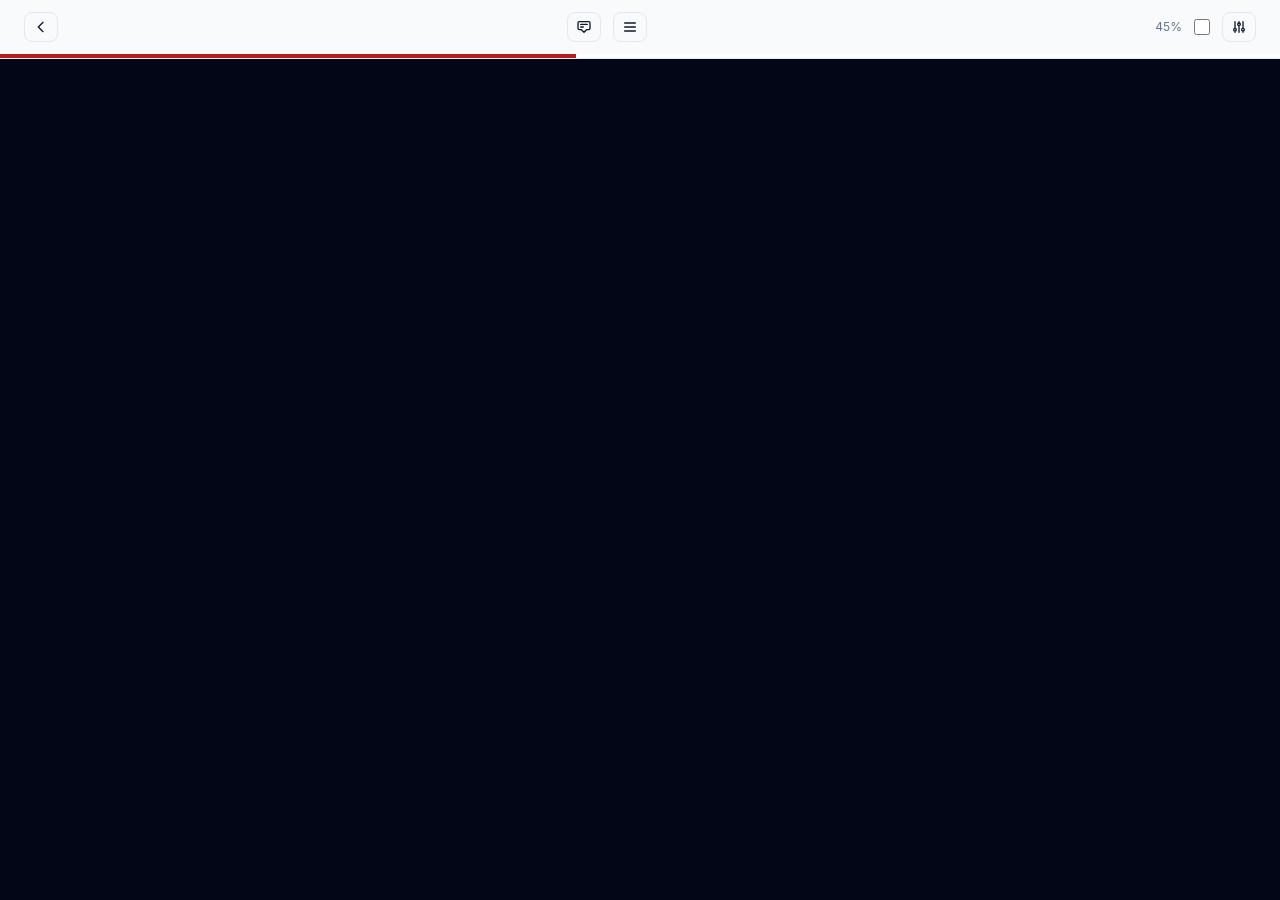
it: ReaderToolbar › closes menu when close button is clicked
Click the button named "Open section menu" at (630,27), box [613, 12, 647, 42]
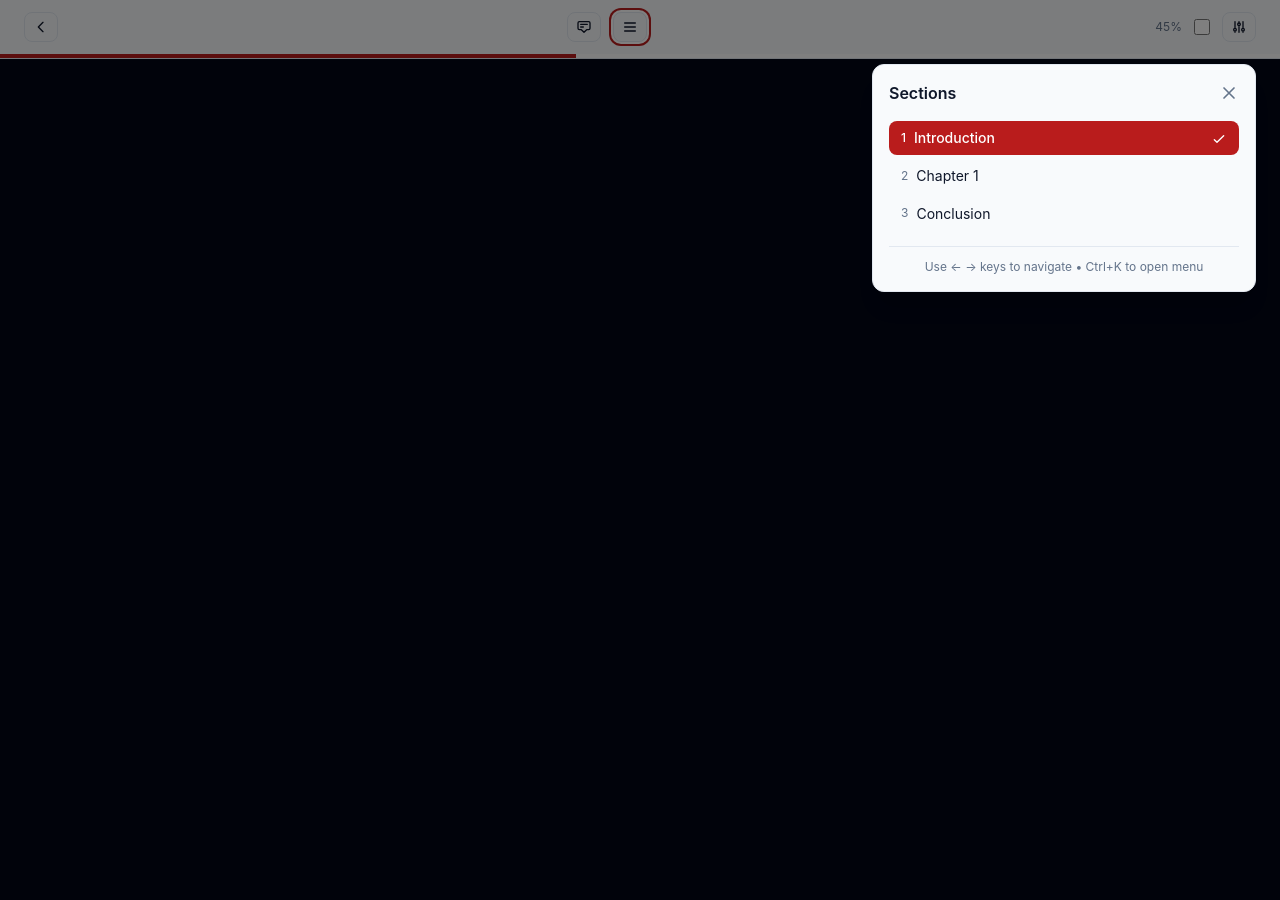
Click the button named "Close section menu" at (1229,93), box [1219, 83, 1239, 103]
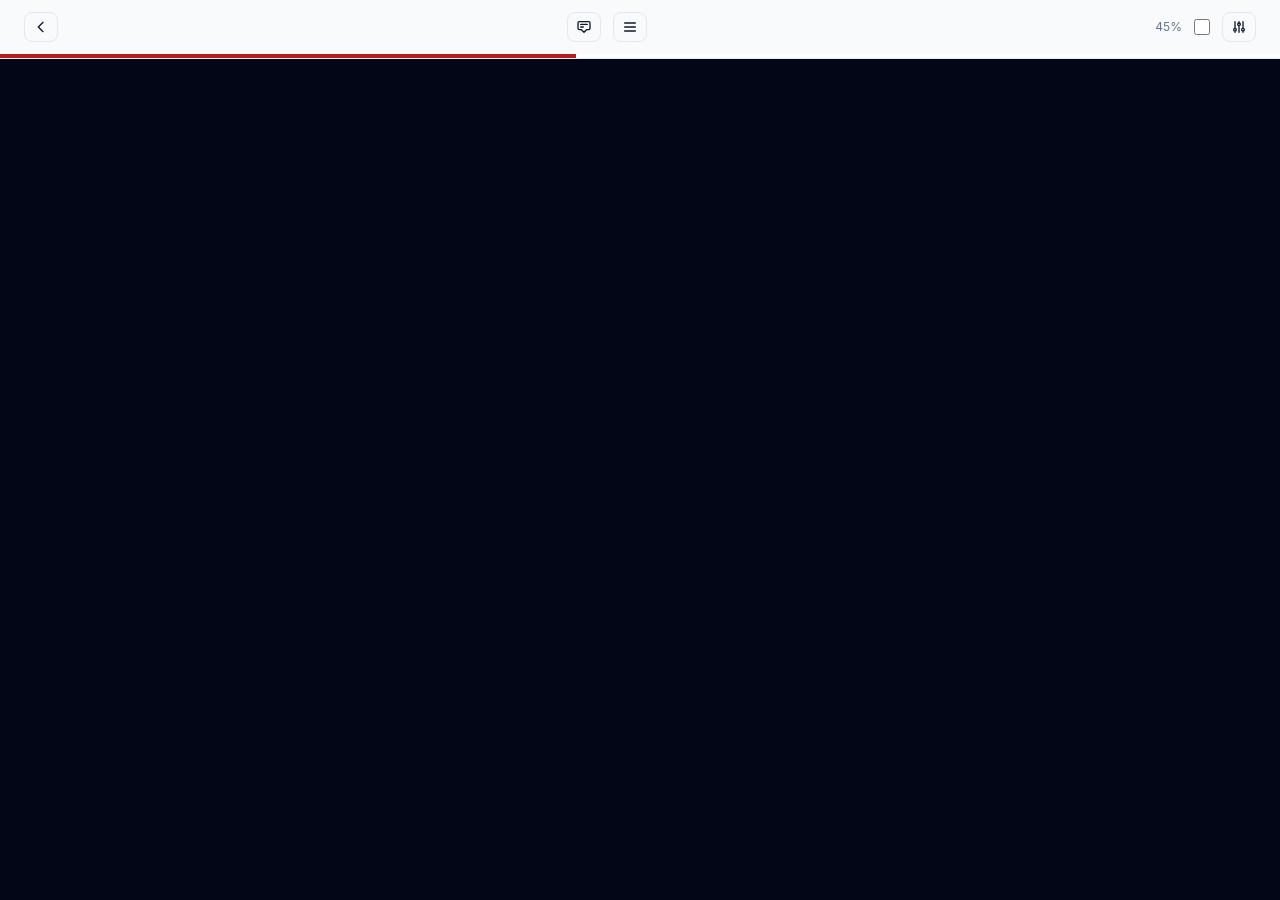
Expected: the heading "Sections" is gone
